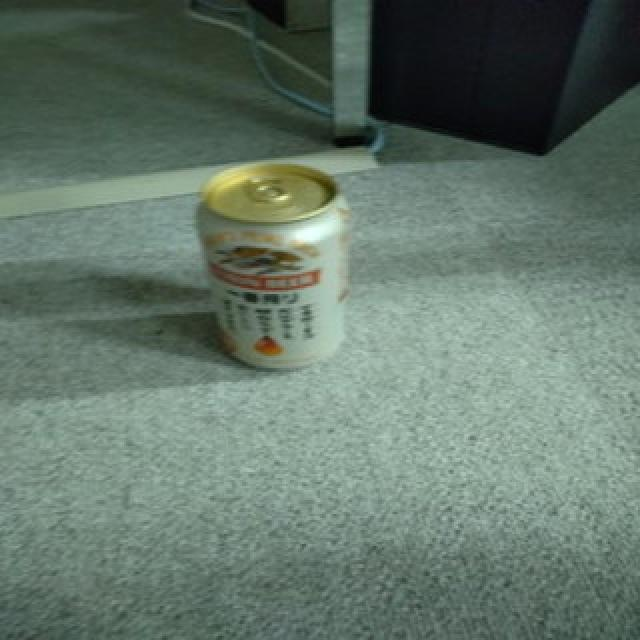recyclable: (195, 163, 356, 363)
